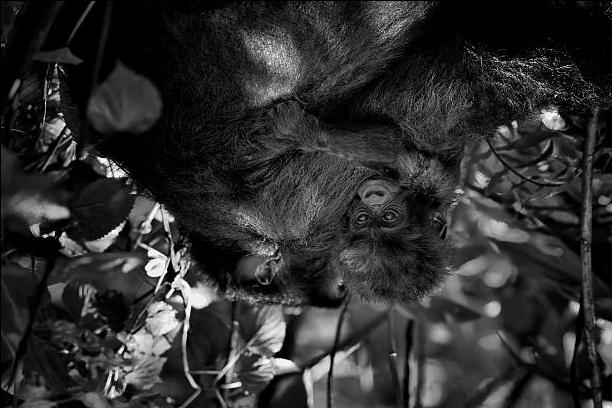goriile_montagne: (74, 2, 551, 310)
